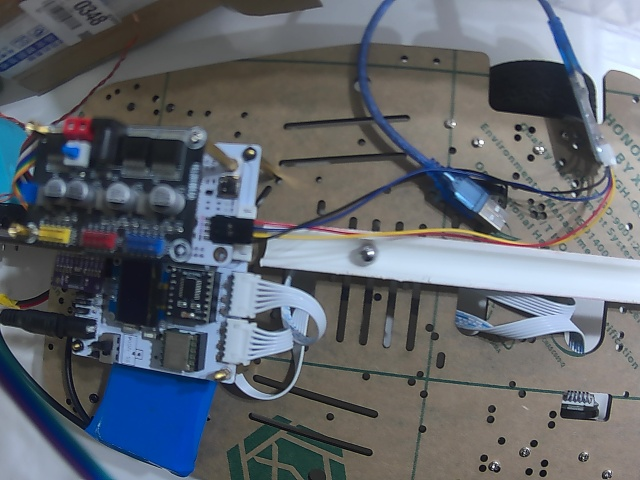steelball: (357, 244, 377, 263)
